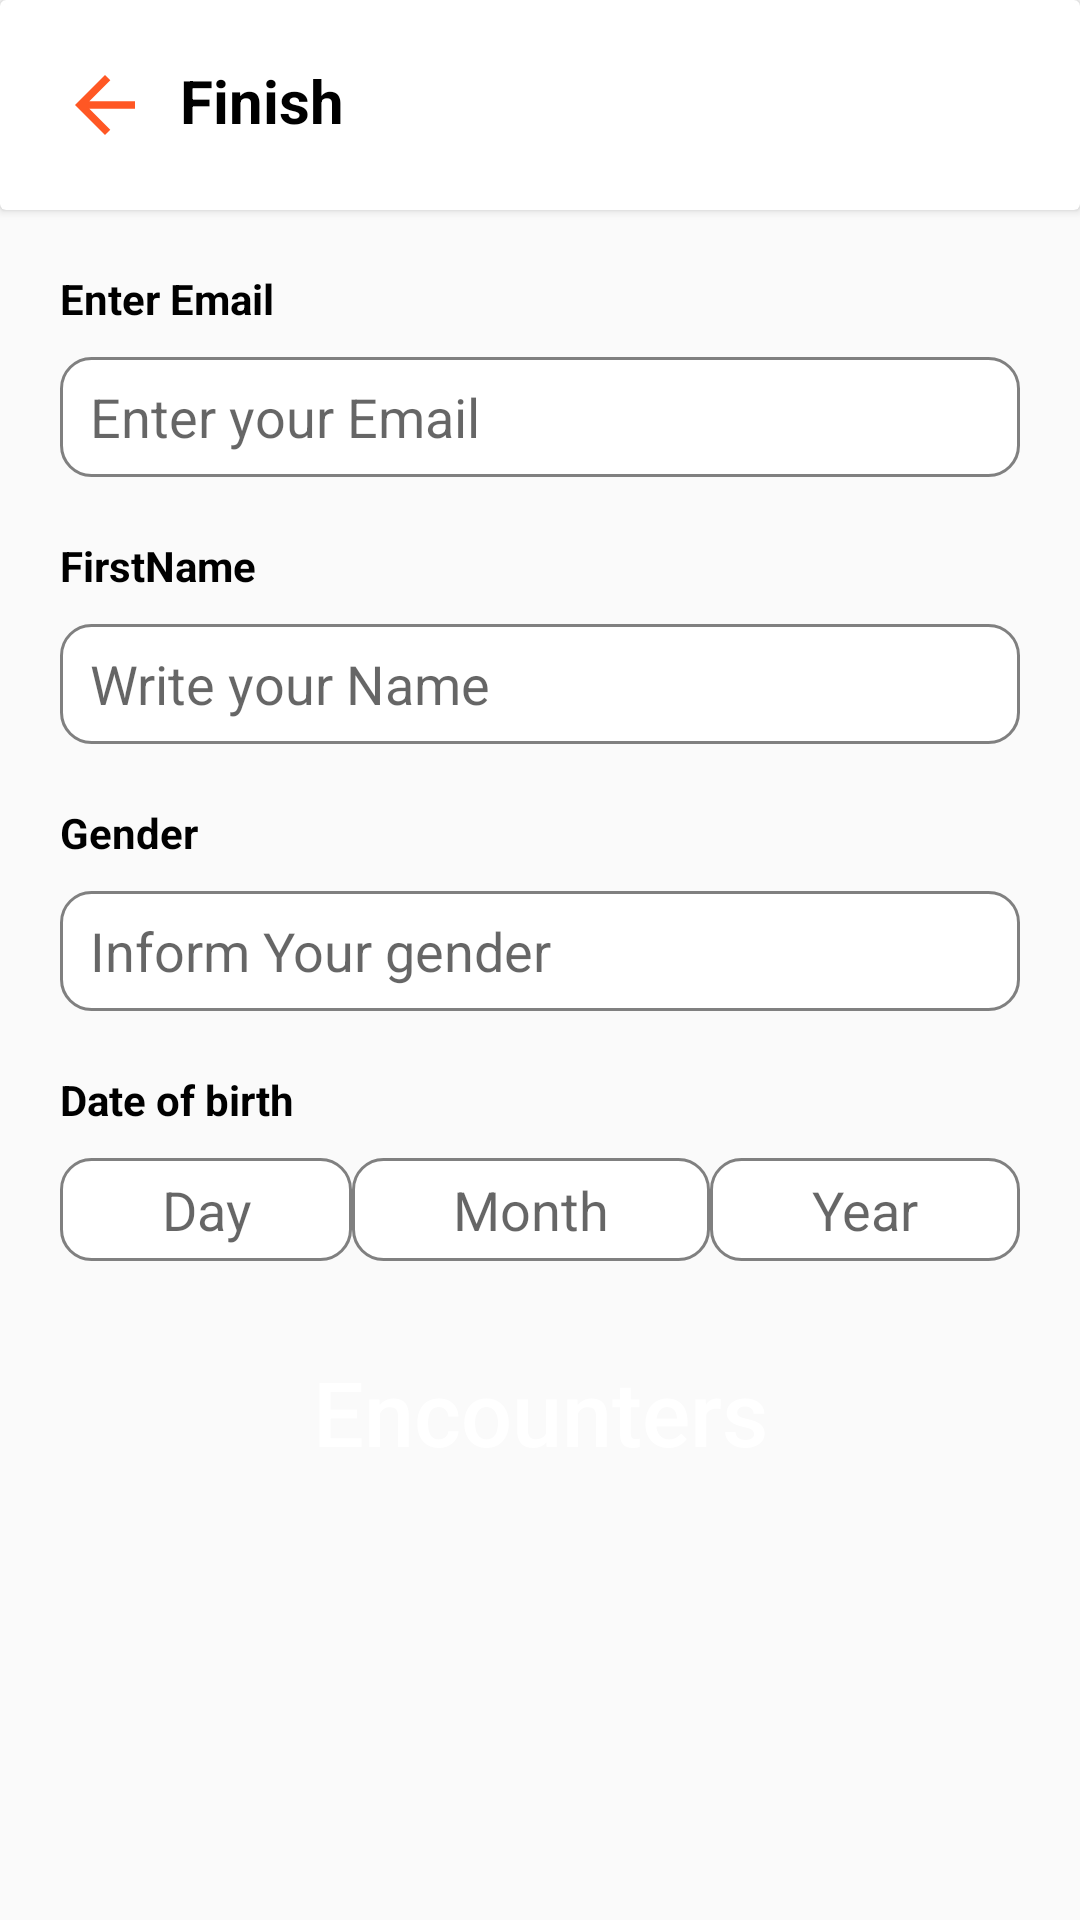

Icon click points for this 1080w x 1920h phone screenshot, format point (x, y):
arrow back: point (105, 105)
